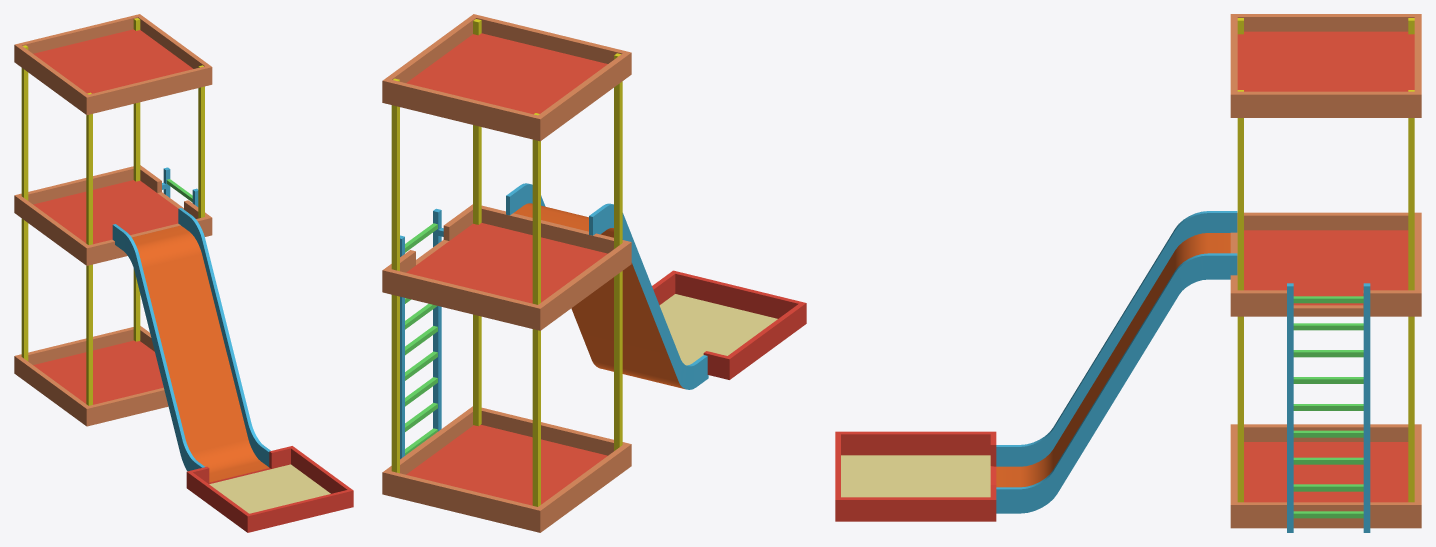
The model's file is slide.glb.
3 renders of one model, left to right at view 1: azimuth 30°, elevation 25°; view 2: azimuth 150°, elevation 25°; view 3: azimuth 270°, elevation 25°, orthographic. The views are drawn at different scales.
Visible parts, largest first — view 1: Cube.003; view 2: Cube.003; view 3: Cube.003.
Part boxes in pixels (x1,y1,x2,y2): Cube.003: [14, 14, 353, 532]; Cube.003: [382, 14, 806, 532]; Cube.003: [835, 14, 1421, 532].
Size of the model in its own units: 0.4484 by 1.06 by 1.29.
